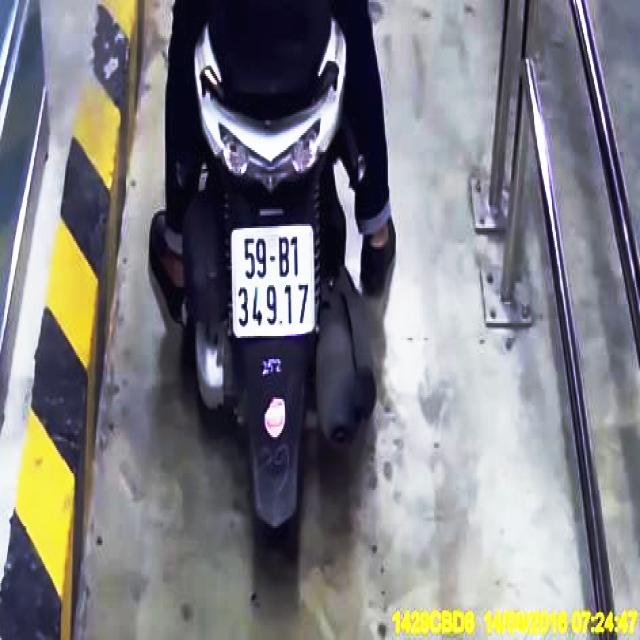license_plate: (232, 228, 315, 337)
